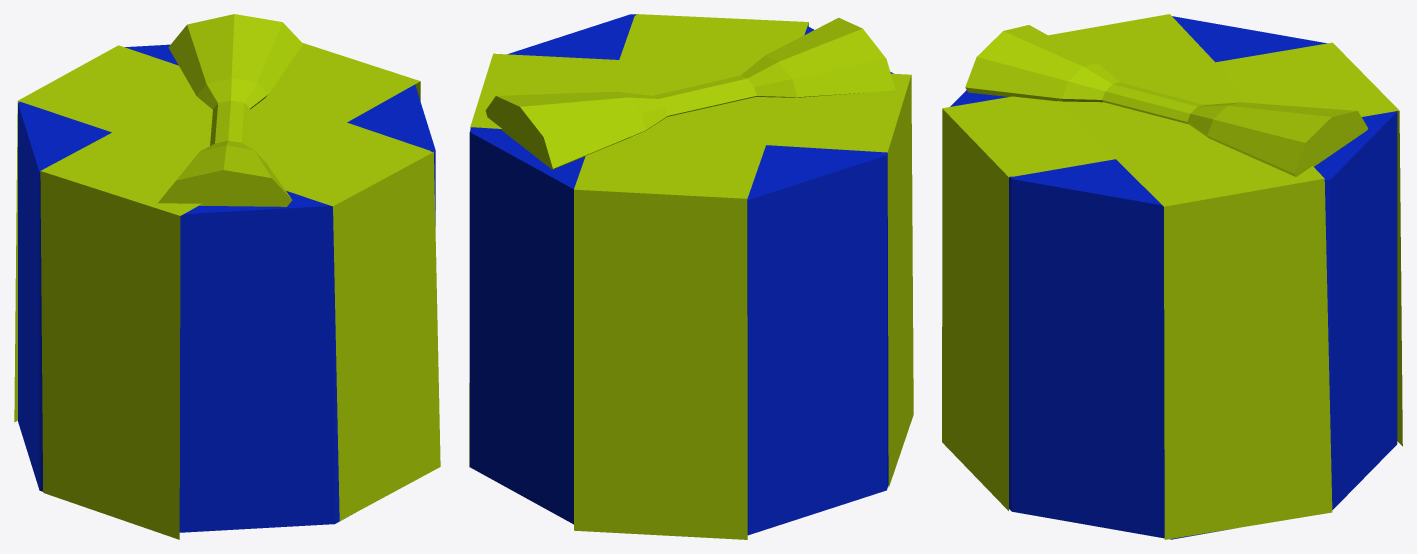
The model's file is cylinder_presents.fbx.
3 views of the same model, side by side, from view 1: azimuth 30°, elevation 25°; view 2: azimuth 150°, elevation 25°; view 3: azimuth 270°, elevation 25° (orthographic). The views are drawn at different scales.
Parts seen in each view (by area): view 1: Plane, Cylinder, Cylinder.001; view 2: Plane, Cylinder, Cylinder.001; view 3: Plane, Cylinder, Cylinder.001.
Part boxes in pixels (left/top/right/bottom): Plane: left=14, top=43, right=440, bottom=539; Cylinder: left=18, top=44, right=435, bottom=532; Cylinder.001: left=158, top=14, right=303, bottom=206; Plane: left=469, top=14, right=913, bottom=539; Cylinder: left=469, top=14, right=893, bottom=535; Cylinder.001: left=485, top=17, right=895, bottom=169; Plane: left=942, top=14, right=1402, bottom=539; Cylinder: left=950, top=16, right=1397, bottom=539; Cylinder.001: left=965, top=25, right=1367, bottom=176.
Bounding box in the file's own units: 117 × 106 × 118.
